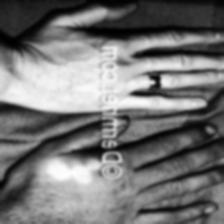Unclassified: (45, 155, 99, 184)
